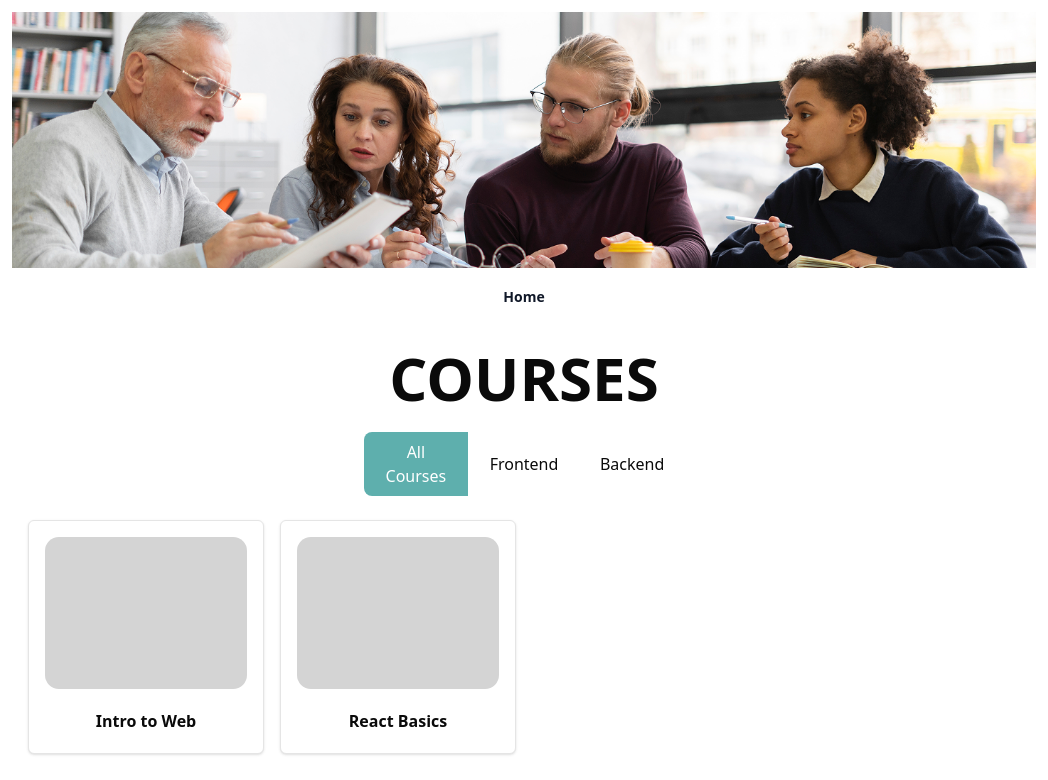
Scenario: Courses Page › filters courses by category
The width and height of the screenshot is (1048, 780).
Expected: the text "Intro to Web" is shown, [96,710,196,732]
Expected: the text "React Basics" is shown, [349,710,447,732]
Click the radio button "Frontend": click(524, 464) [472,444,576,484]
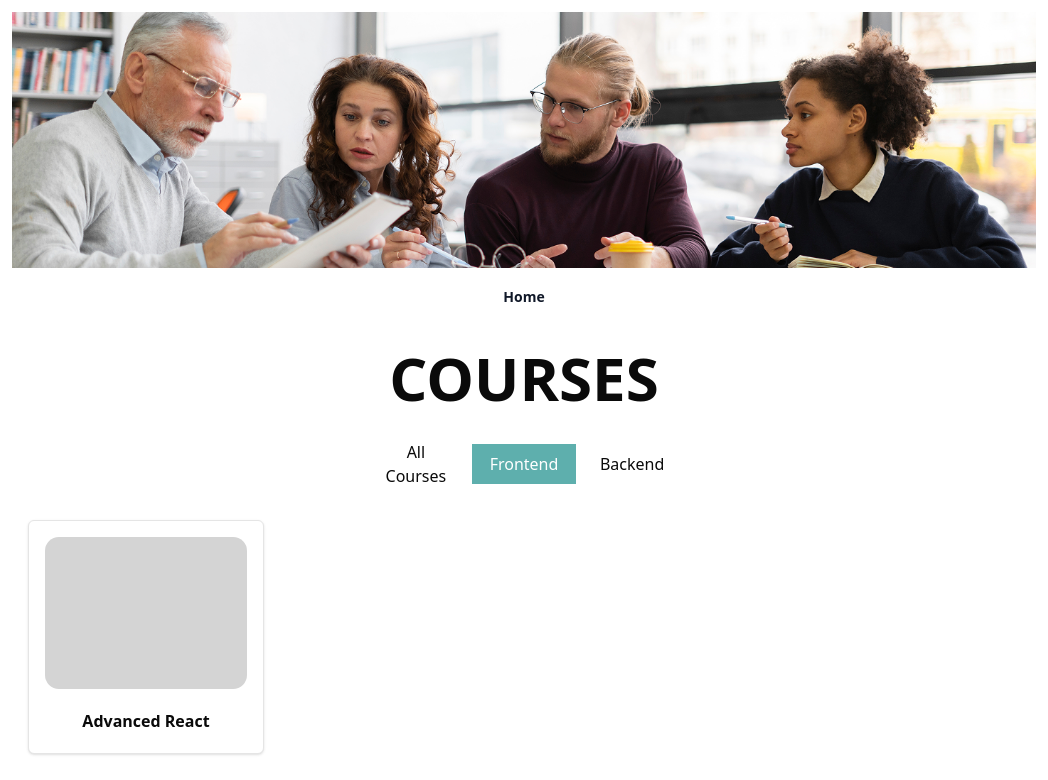
Now the text "Advanced React" is shown, box [82,710,210,732]
Now the link "Intro to Web" is gone
Now the link "React Basics" is gone
